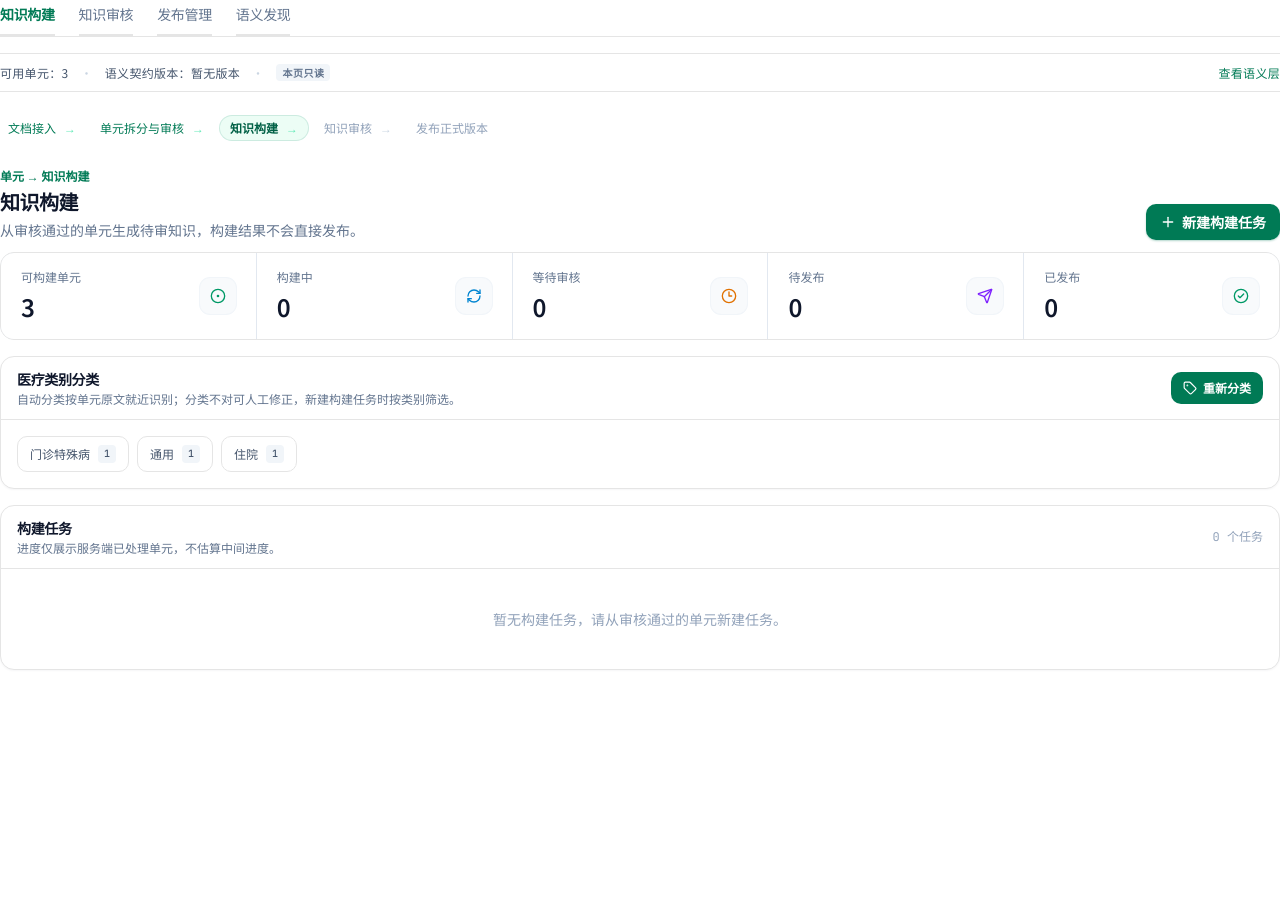
build wizard med type filter › filters selectable units by medical category in step 1
The width and height of the screenshot is (1280, 900).
Click the button "新建构建任务".
click(1213, 222)  # box [1146, 204, 1279, 240]
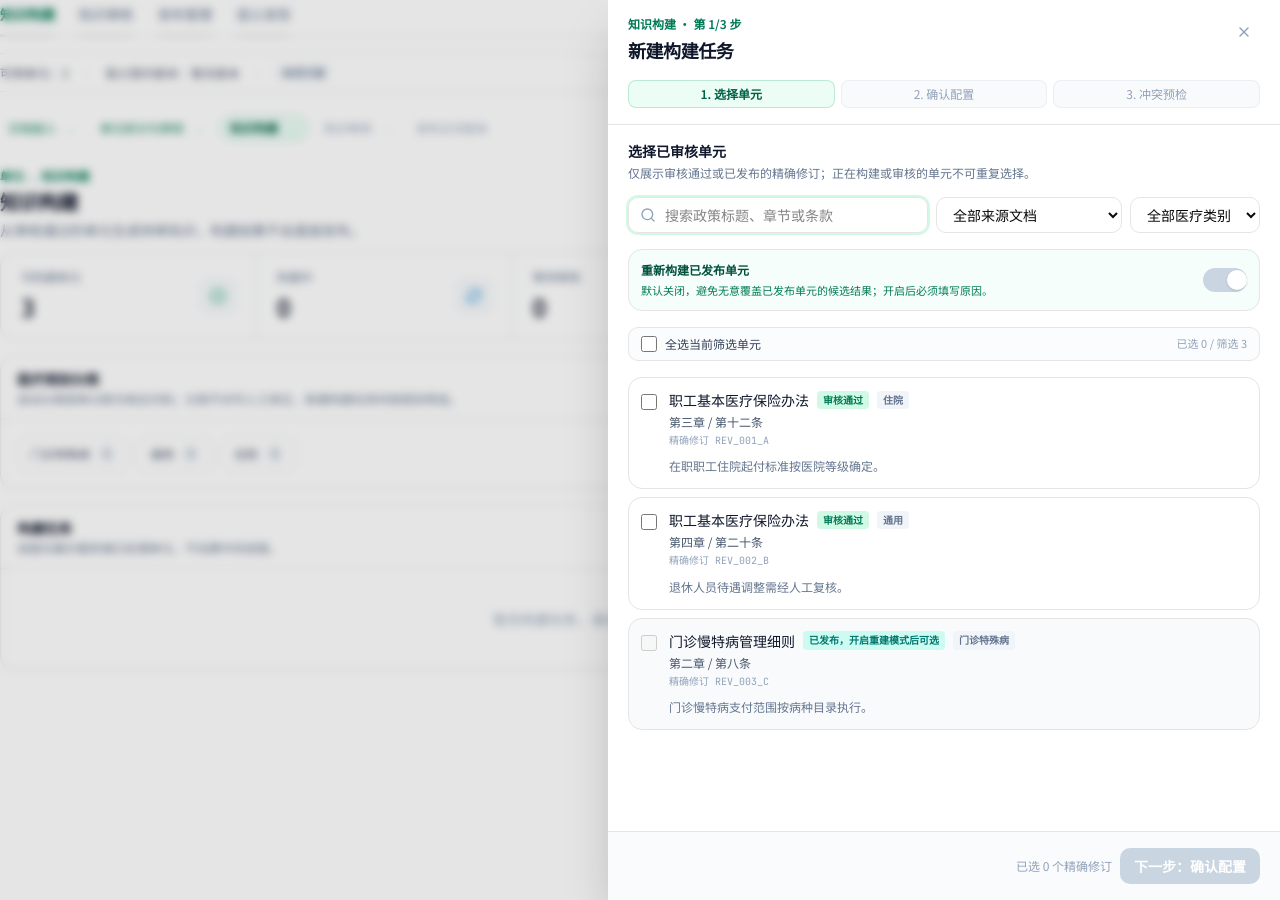
Result: the text "在职职工住院起付标准按医院等级确定。" is shown at [669, 457, 885, 474]
Result: the text "门诊慢特病支付范围按病种目录执行。" is shown at [669, 698, 873, 715]
Select "住院" in the dropdown named "按医疗类别筛选" at (1195, 215), box [1130, 197, 1260, 233]
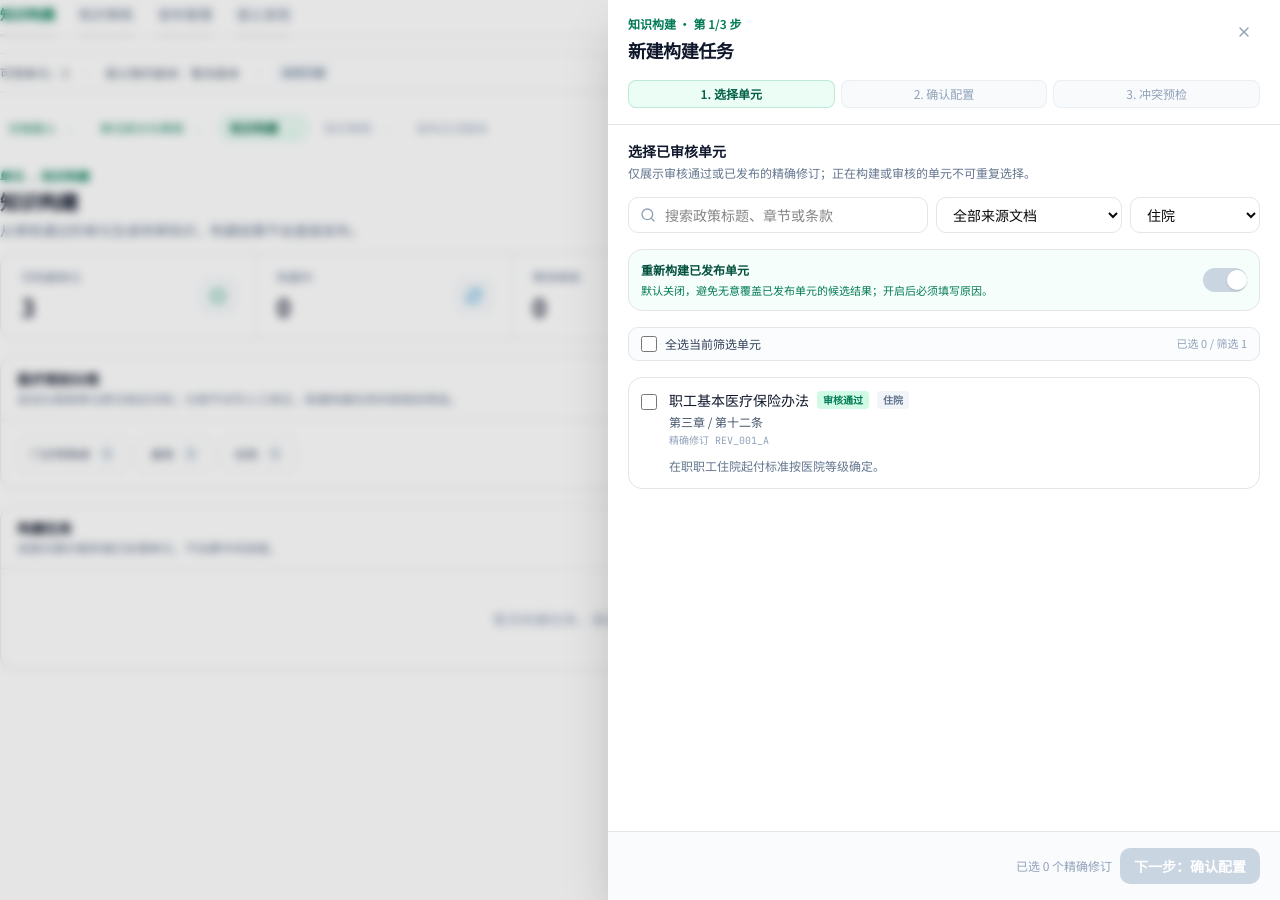
Result: the text "在职职工住院起付标准按医院等级确定。" is shown at [669, 457, 885, 474]
Result: the text "门诊慢特病支付范围按病种目录执行。" is gone
//  切到门诊特殊病
Select "门诊特殊病" in the dropdown named "按医疗类别筛选" at (1195, 215), box [1130, 197, 1260, 233]
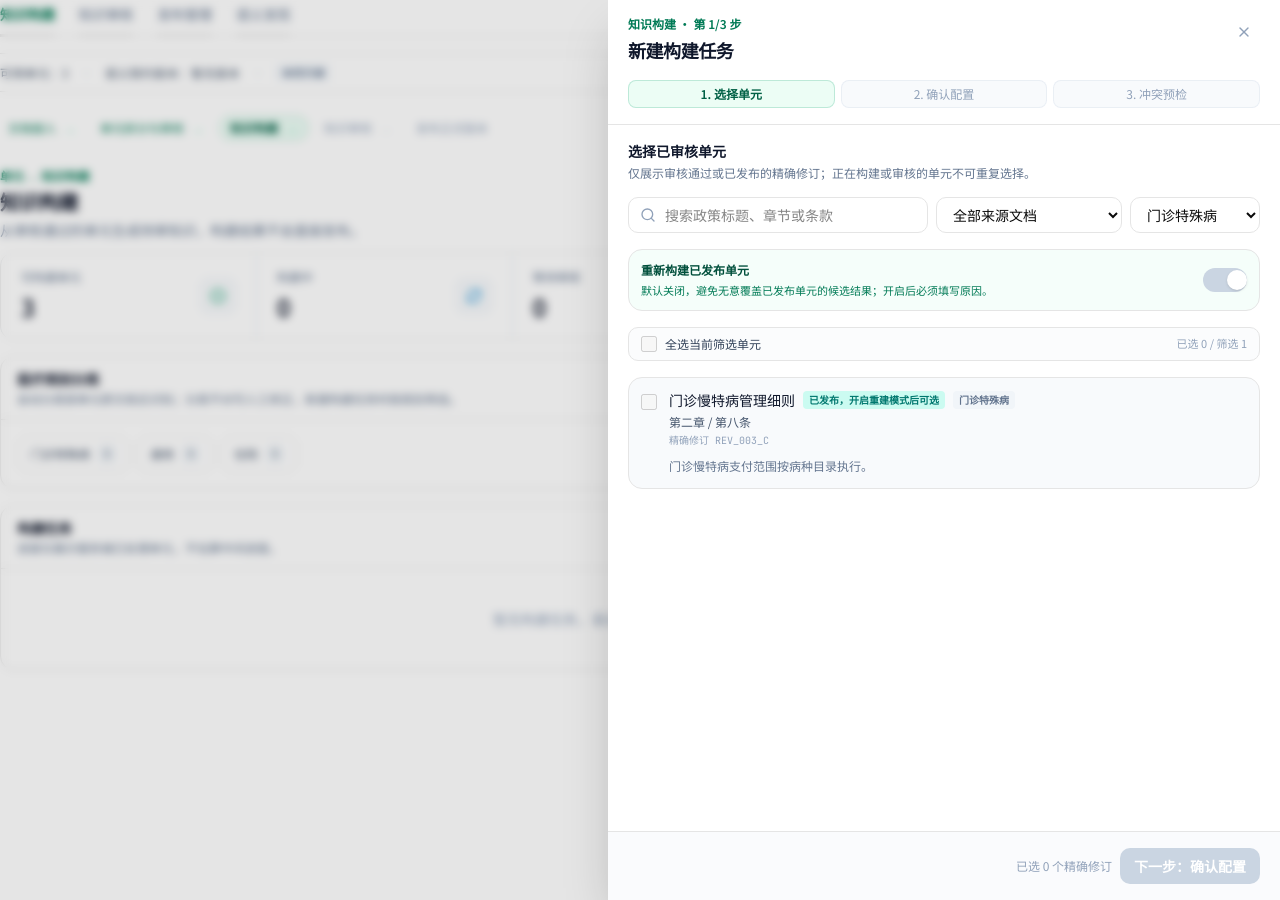
Result: the text "在职职工住院起付标准按医院等级确定。" is gone
Result: the text "门诊慢特病支付范围按病种目录执行。" is shown at [669, 457, 873, 474]
